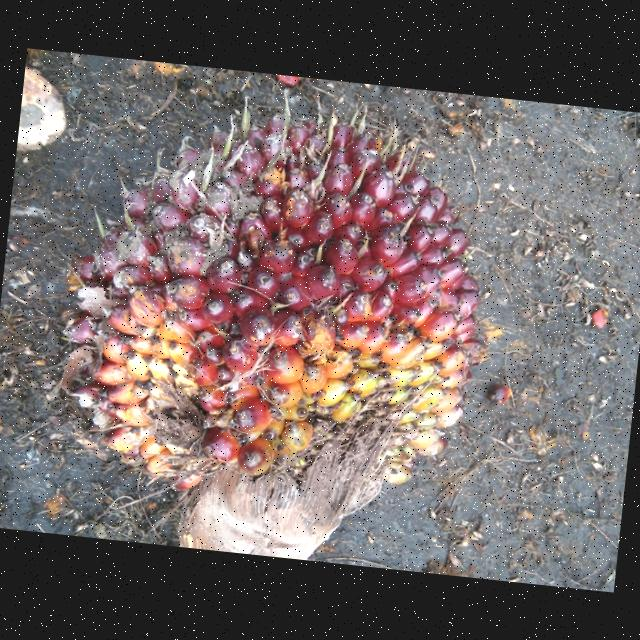Ripe: (61, 118, 482, 560)
